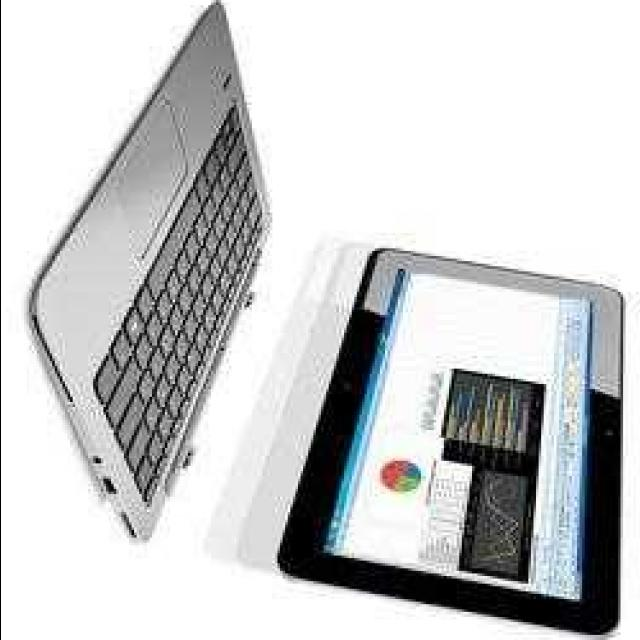laptop: (86, 18, 614, 602)
